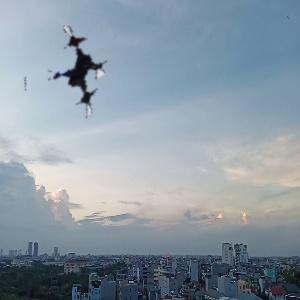drone: (16, 26, 120, 130)
